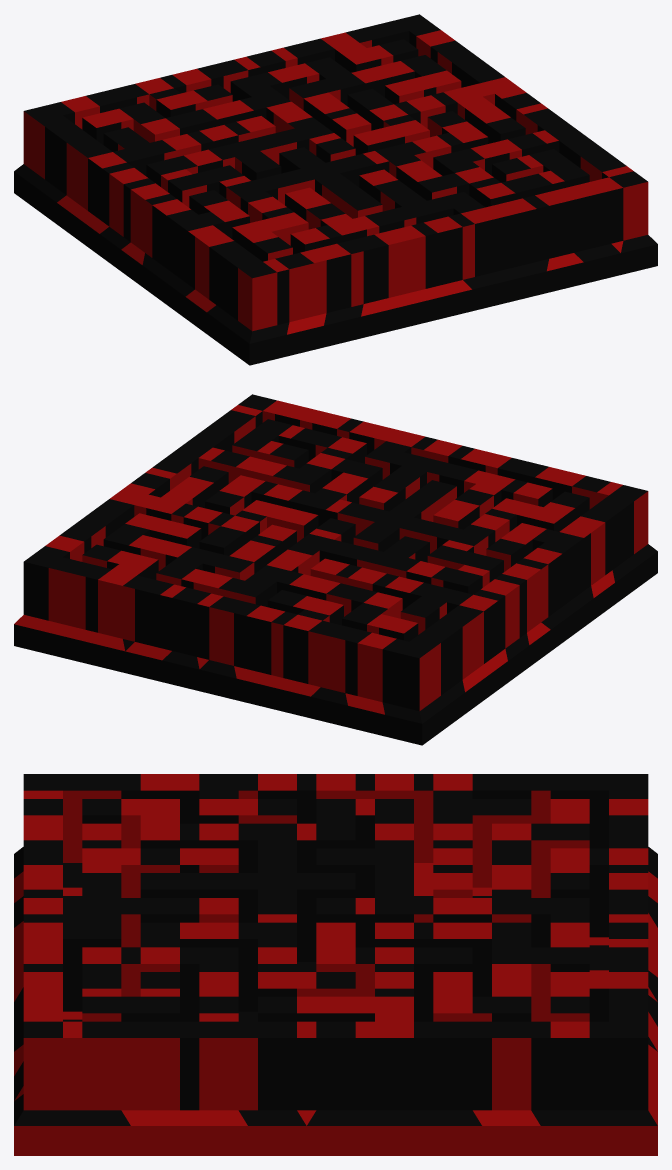
Rendered from Maze3.fbx.
3 renders of one model, top to bottom at view 1: azimuth 30°, elevation 25°; view 2: azimuth 150°, elevation 25°; view 3: azimuth 270°, elevation 25°, orthographic. The views are drawn at different scales.
Visible parts, largest first — view 1: Cube; view 2: Cube; view 3: Cube.
Part boxes in pixels (bbox=[...]): Cube: bbox=[14, 14, 657, 365]; Cube: bbox=[14, 394, 657, 745]; Cube: bbox=[14, 774, 657, 1155].
Bounding box in the file's own units: 3000 × 584 × 3000.
